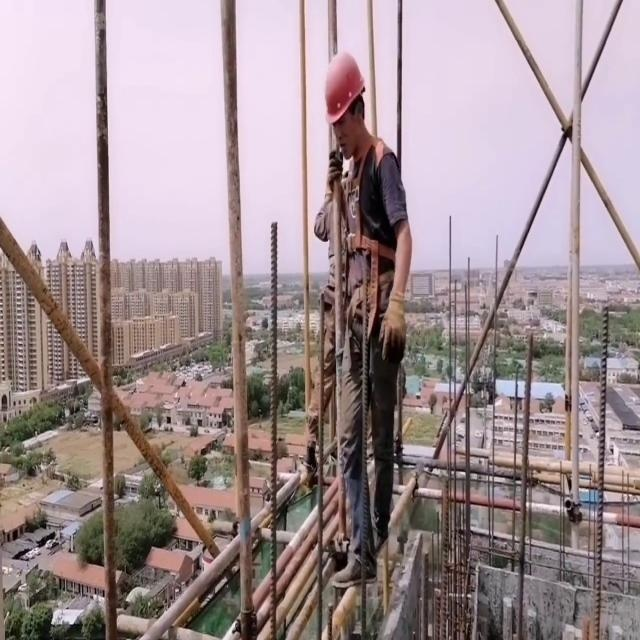Arnes_seguridad: (339, 135, 400, 310)
